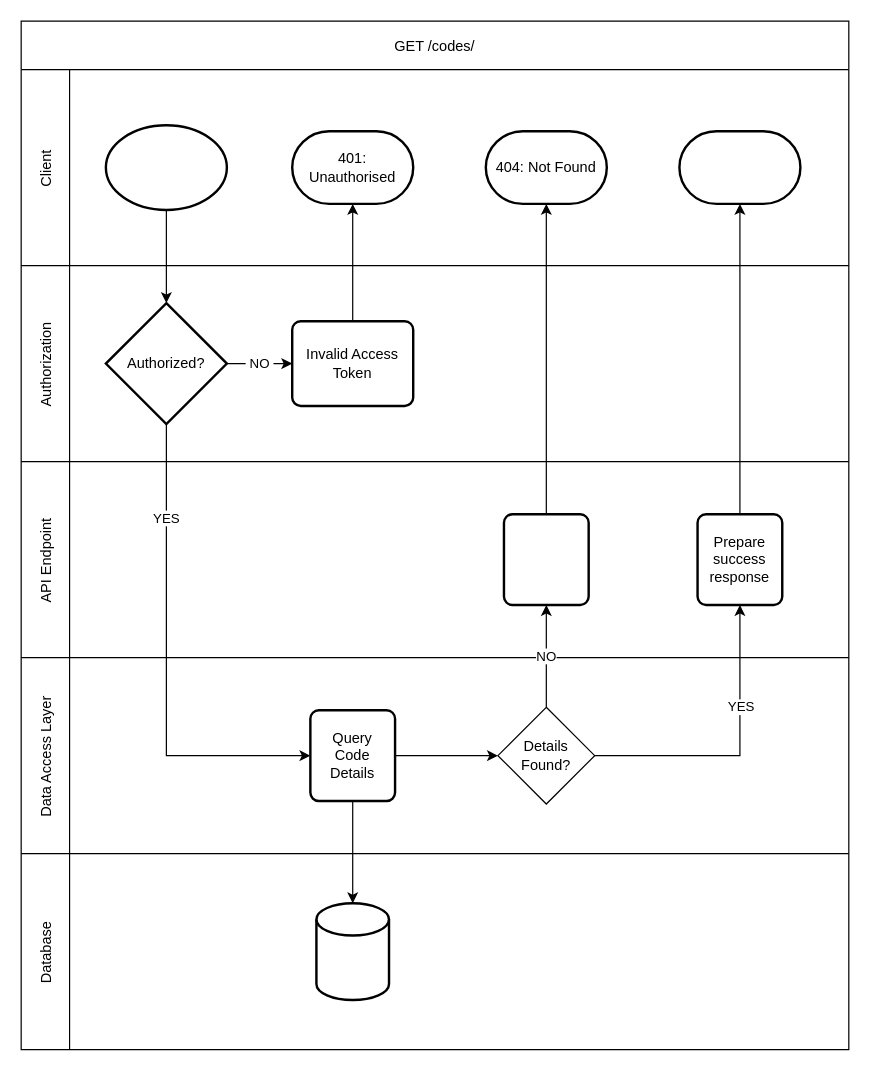
Some shapes in this 870 by 1071 pixel diagram are drawn without their labels. The centre of each missing label's shape, as x and y in pixels:
"200: Response" goes at point 739,166.
"DB" goes at point 352,951.
"Prepare failure response" goes at point 545,559.
"Request" goes at point 165,167.
